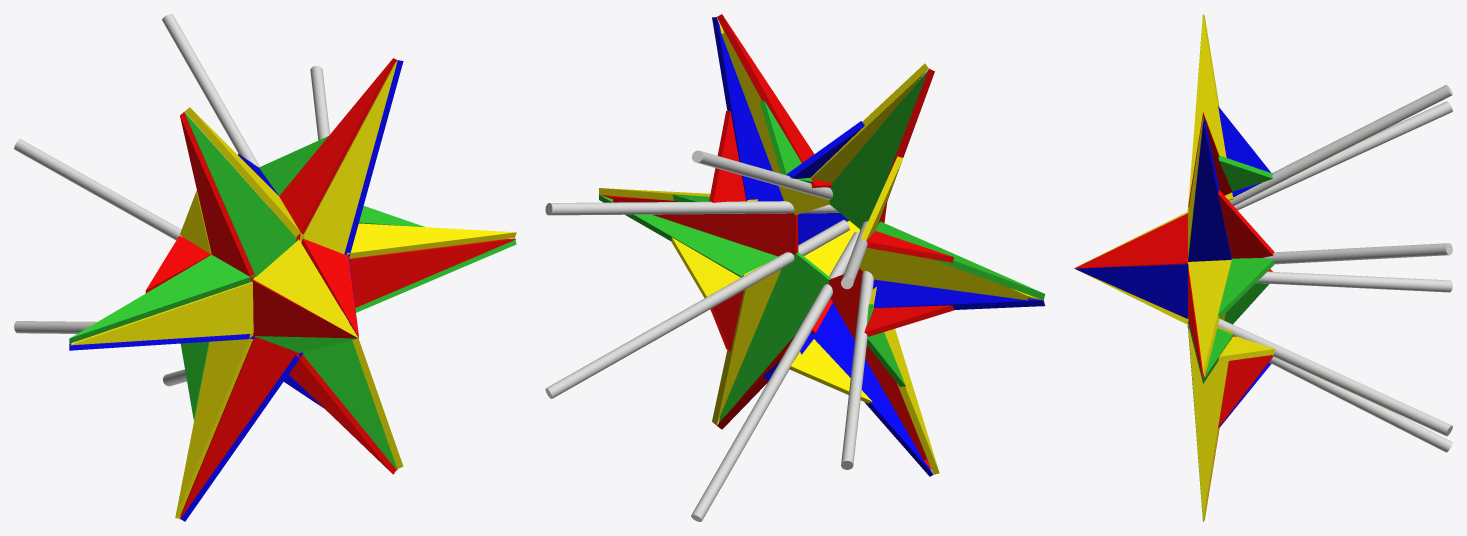
The picture shows the model from 3 angles, left to right: view 1: azimuth 30°, elevation 25°; view 2: azimuth 150°, elevation 25°; view 3: azimuth 270°, elevation 25°; orthographic projection.
Parts seen in each view (by area): view 1: model; view 2: model; view 3: model.
Boxes of the visible parts, <box> form: model: <box>14,14,516,521</box>; model: <box>545,14,1045,521</box>; model: <box>1074,14,1452,521</box>.
Size of the model in its own units: 83.92 by 74.77 by 62.54.
